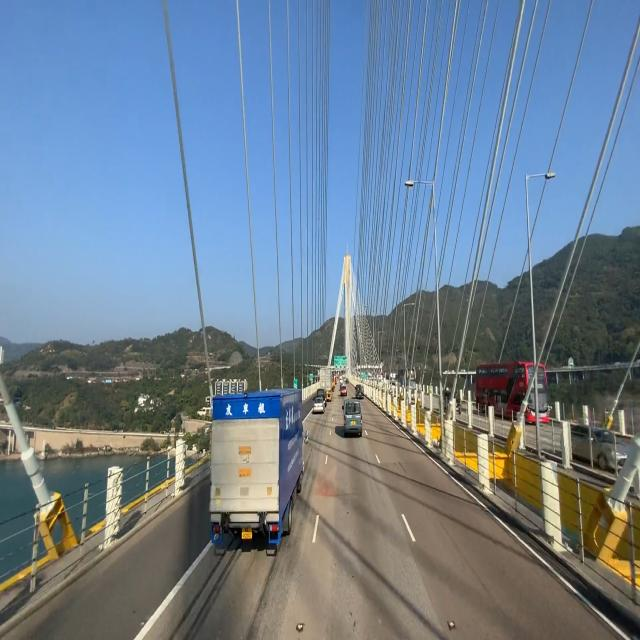Car: (209, 388, 308, 559), (341, 396, 364, 441)
